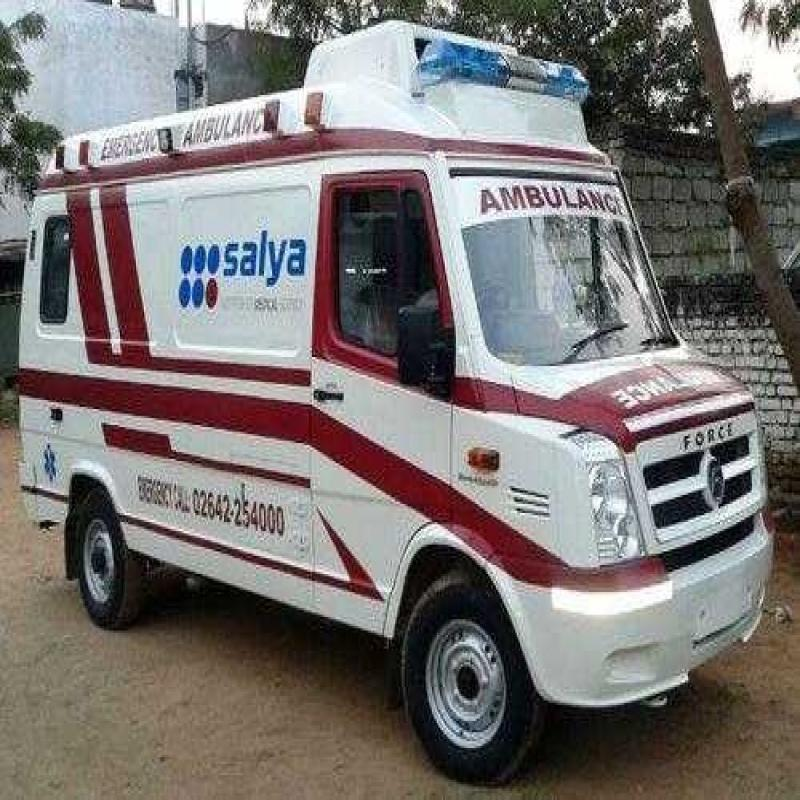AmbulanceSiren: (390, 16, 606, 132)
